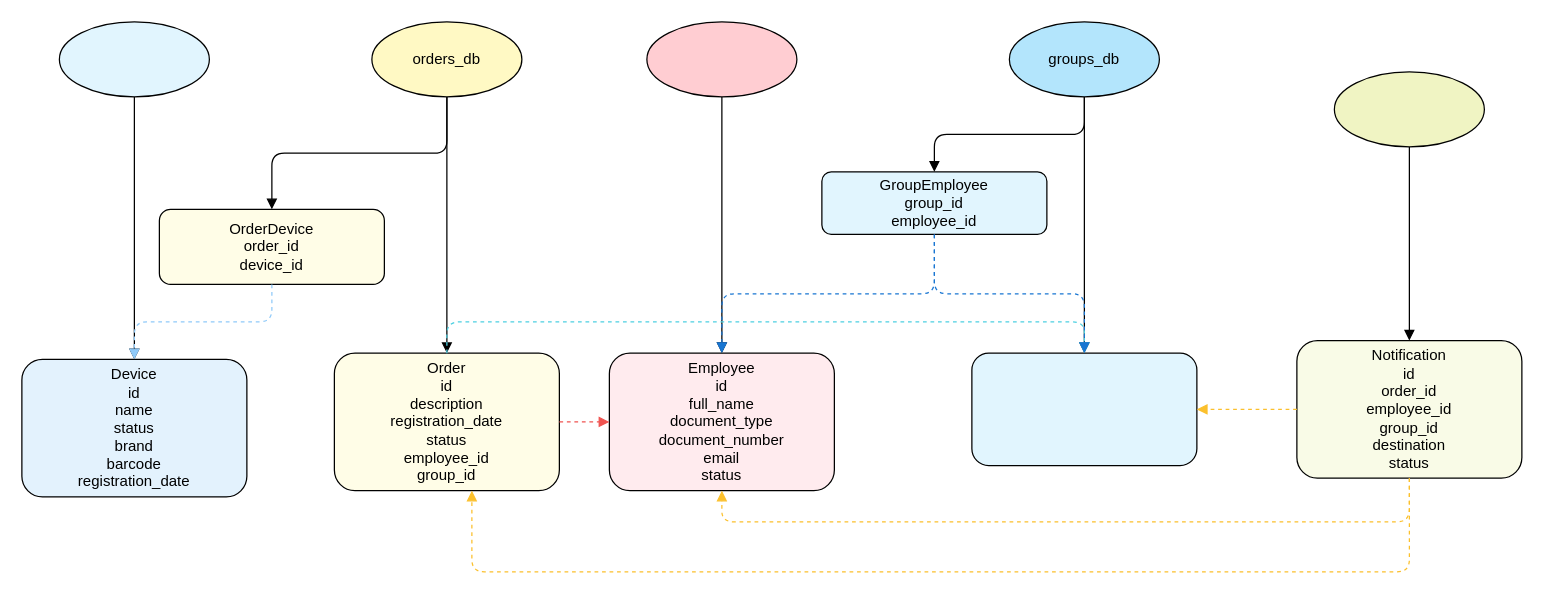
The diagram is 1544 pixels wide and 604 high, and some of its shapes have lost their labels. Each missing label, with the centre of its shape:
"devices_db" goes at (133,59).
"employees_db" goes at (721,59).
"Group id name address creation_date update_date" goes at (1084,409).
"notifications_db" goes at (1408,109).
